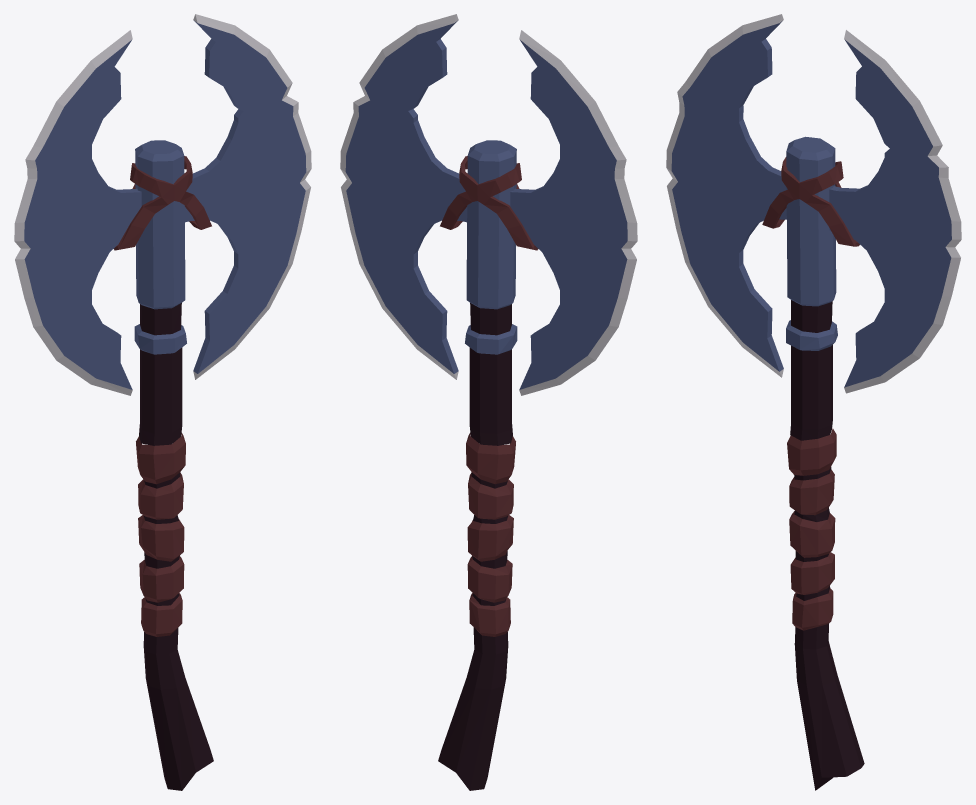
File: axe_01.glb
3 renders of one model, left to right at view 1: azimuth 30°, elevation 25°; view 2: azimuth 150°, elevation 25°; view 3: azimuth 330°, elevation 25°, orthographic.
Visible parts, largest first — view 1: Axe_Double; view 2: Axe_Double; view 3: Axe_Double.
Part boxes in pixels (x1=…): Axe_Double: x1=14, y1=14, x2=311, y2=790; Axe_Double: x1=340, y1=14, x2=637, y2=790; Axe_Double: x1=666, y1=14, x2=961, y2=790.
Size of the model in its own units: 87.12 by 215 by 13.55.
